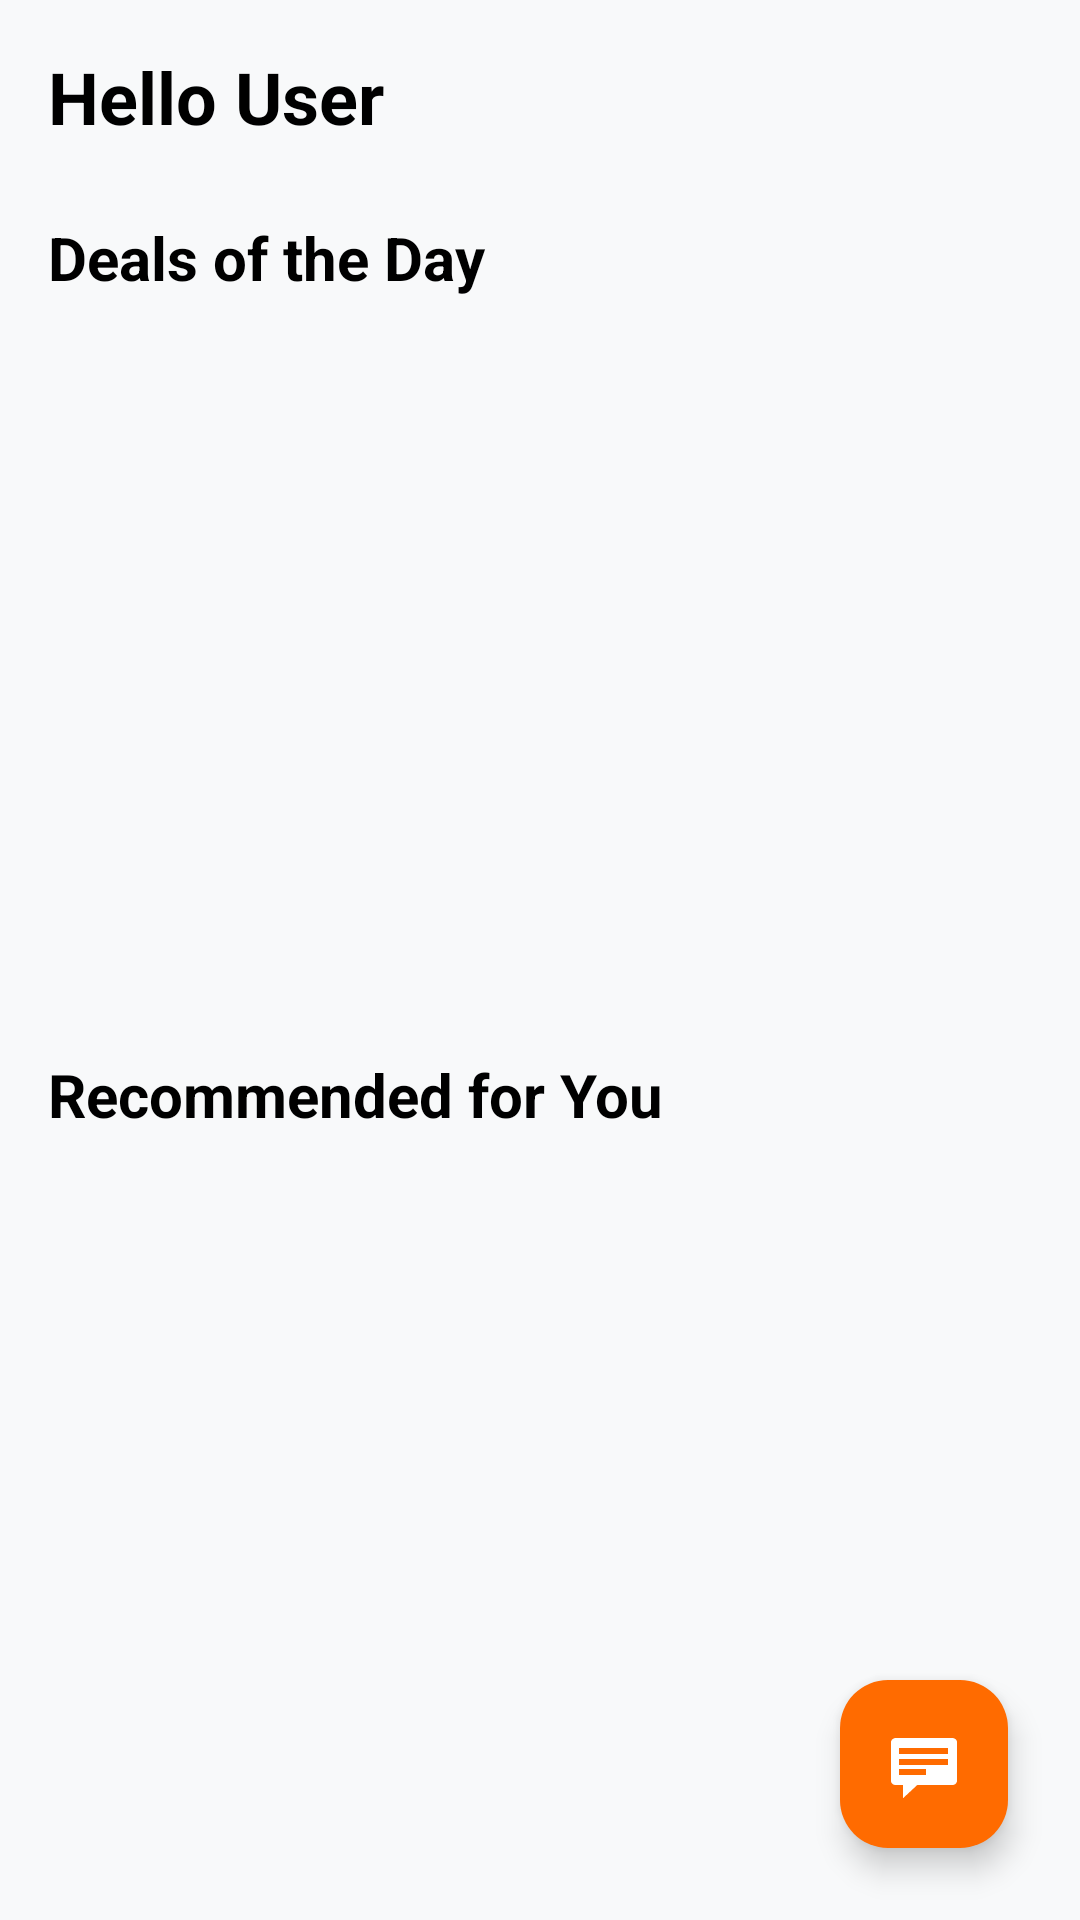

Named icons in this screenshot (1080 x 1920) and their centers, [x,y]:
Chat with Seller: [924,1764]
